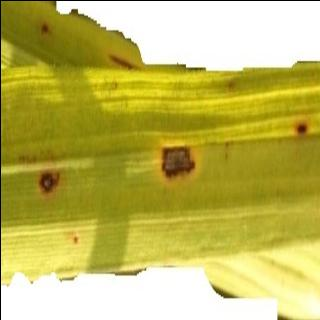bercak-Cokelat: (152, 136, 206, 188), (33, 163, 61, 197), (286, 116, 311, 138)
